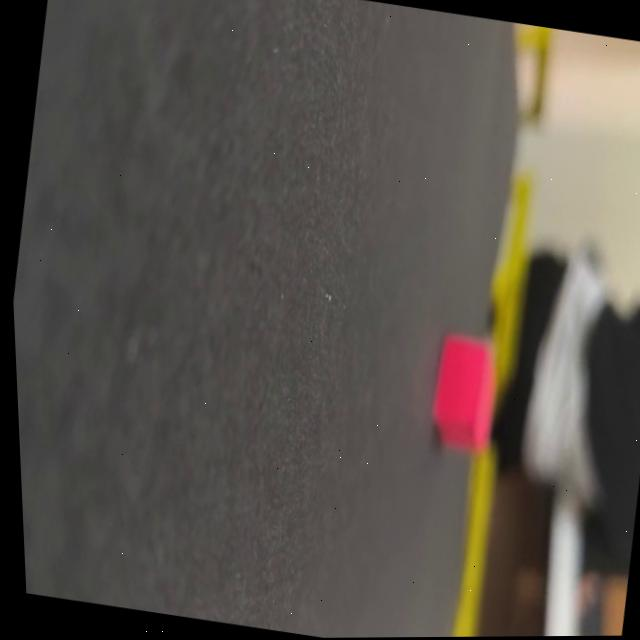red block: (422, 332, 508, 457)
